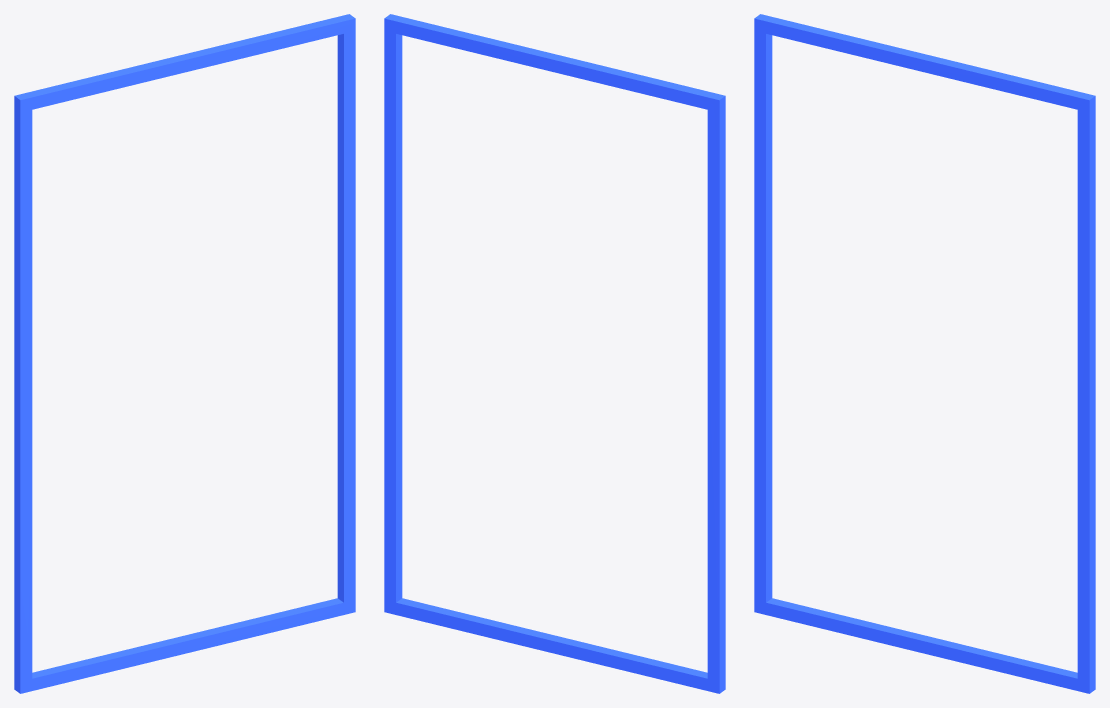
File: Billboard_GroundFloor.glb
3 renders of one model, left to right at view 1: azimuth 30°, elevation 25°; view 2: azimuth 150°, elevation 25°; view 3: azimuth 330°, elevation 25°, orthographic.
Parts seen in each view (by area): view 1: Marco_Publicidad 01.004; view 2: Marco_Publicidad 01.004; view 3: Marco_Publicidad 01.004.
Part boxes in pixels (x1,y1,x2,y2): Marco_Publicidad 01.004: (14,14,355,693); Marco_Publicidad 01.004: (384,14,725,693); Marco_Publicidad 01.004: (754,14,1095,693).
Size of the model in its own units: 1.6 by 2.7 by 0.0507.
Materials: 1 (1 with a texture image).
